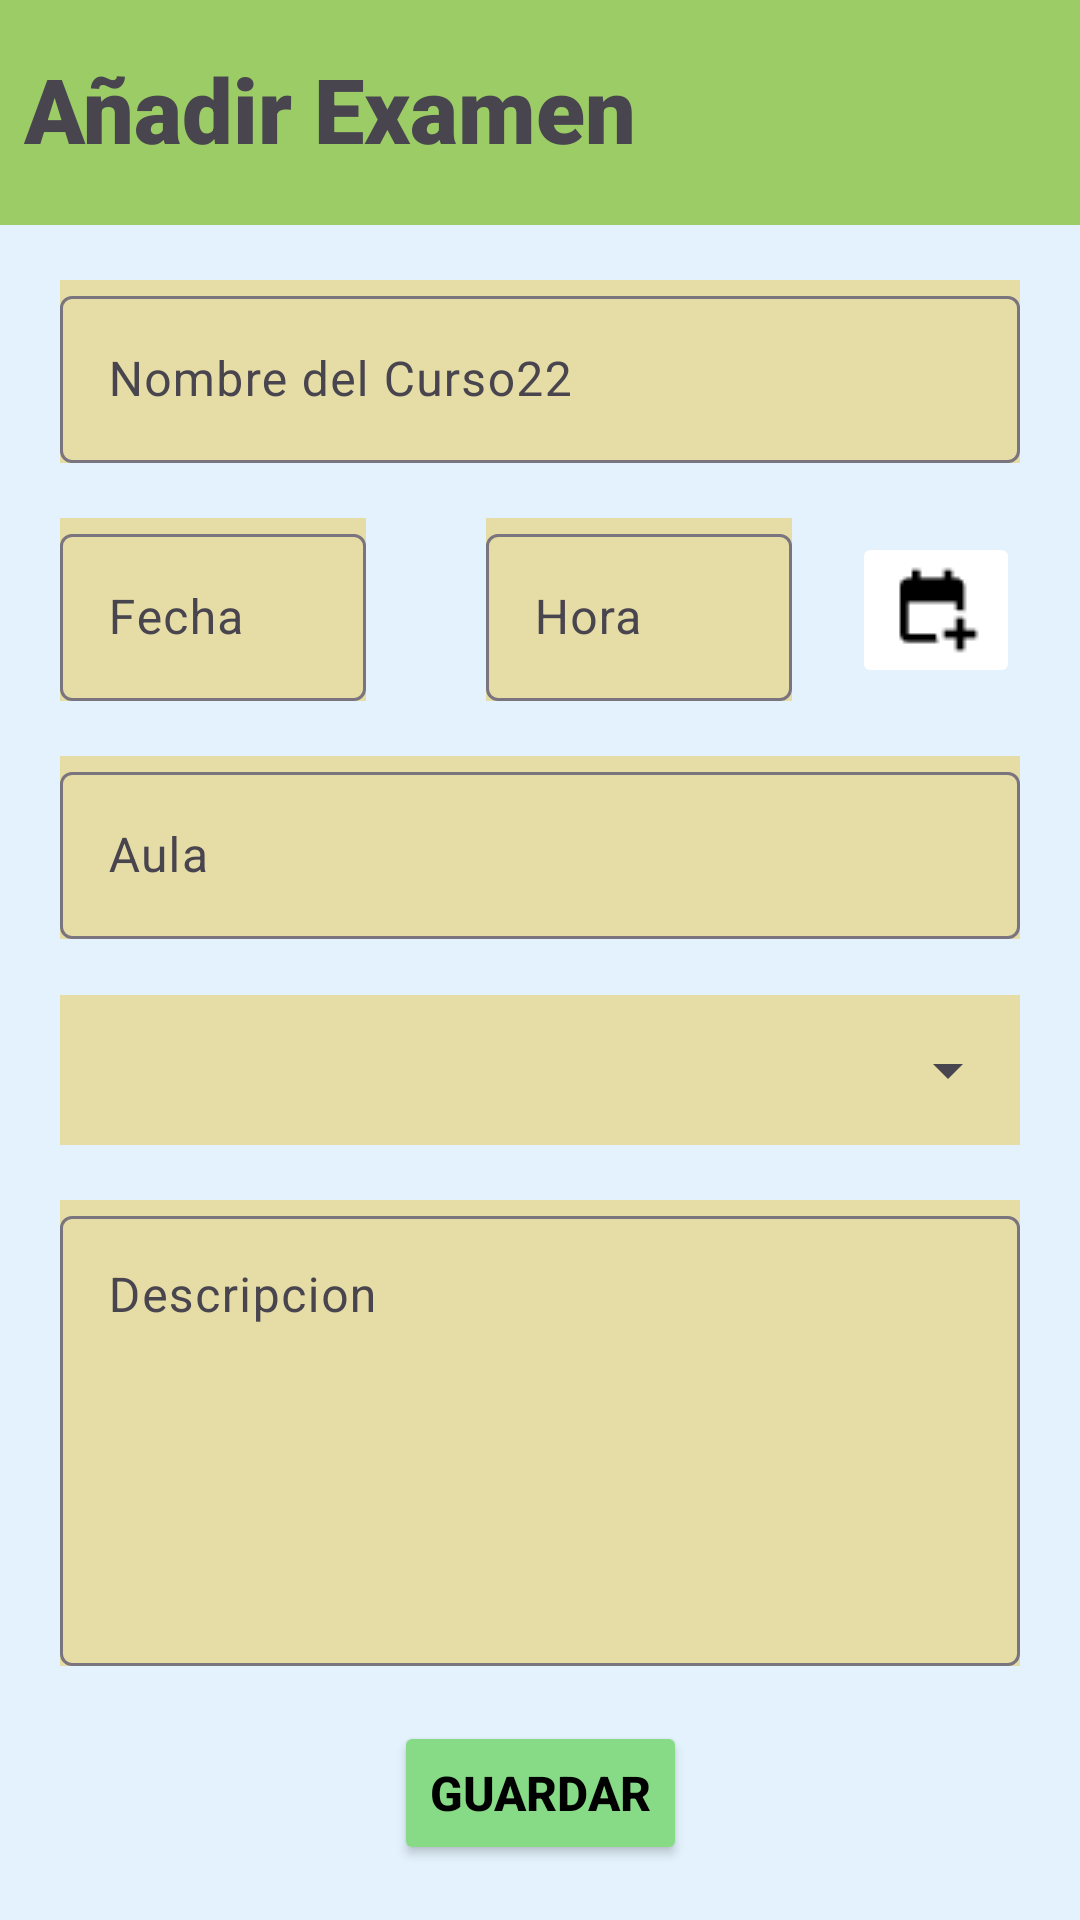

Locate icon controls on the screen. Image size 1080×1920, boxes as (x1, y1, x2, y2).
calendar: (864, 550, 1008, 670)
